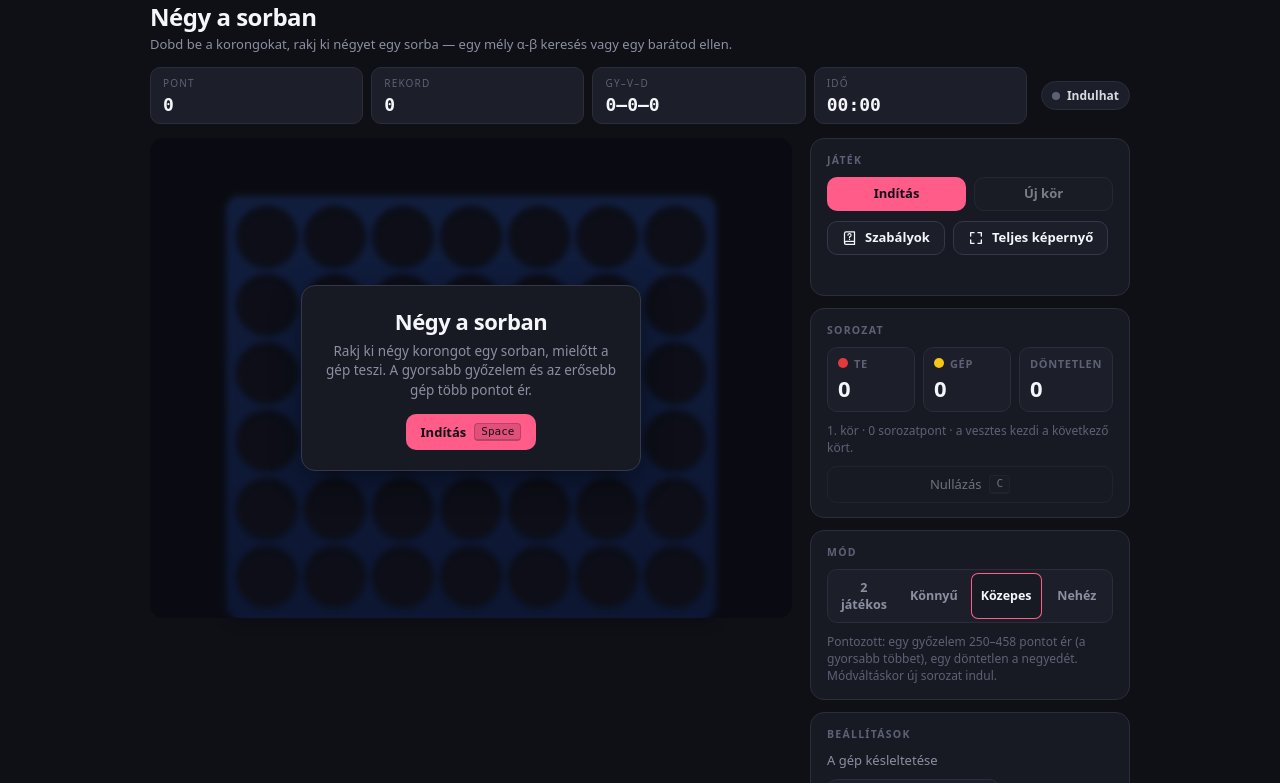
Test: Connect Four rules dialog › has a described diagram
The width and height of the screenshot is (1280, 783).
Click the button "Szabályok" at {"x": 886, "y": 238}, box [827, 221, 945, 255]
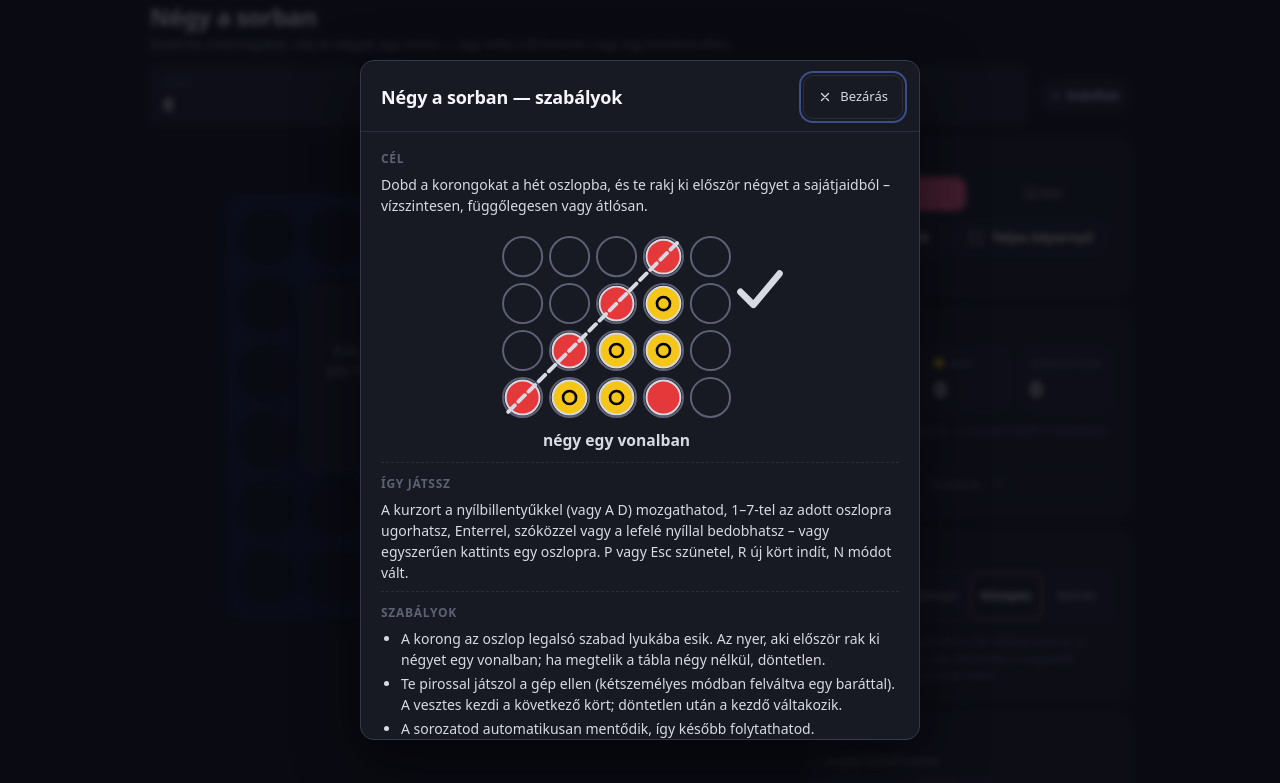
Check: the picture named "Ábra" is shown, box [490, 224, 790, 454]
